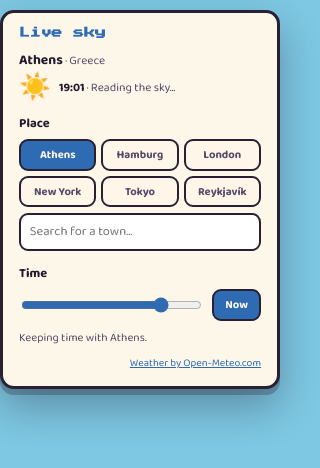
it: moving the sky › says so when nowhere answers to the name
Type "Qwxz" into the search field at (140, 232), box 19,213 -> 261,251
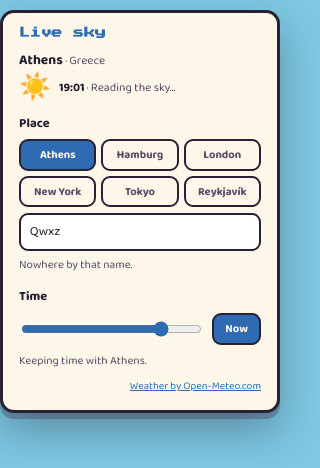
Expected: the text "Nowhere by that name." is shown, 19,256 -> 132,274
